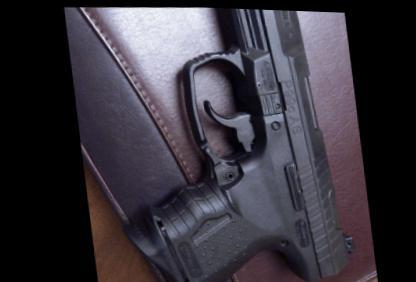pistol: (93, 2, 359, 279)
